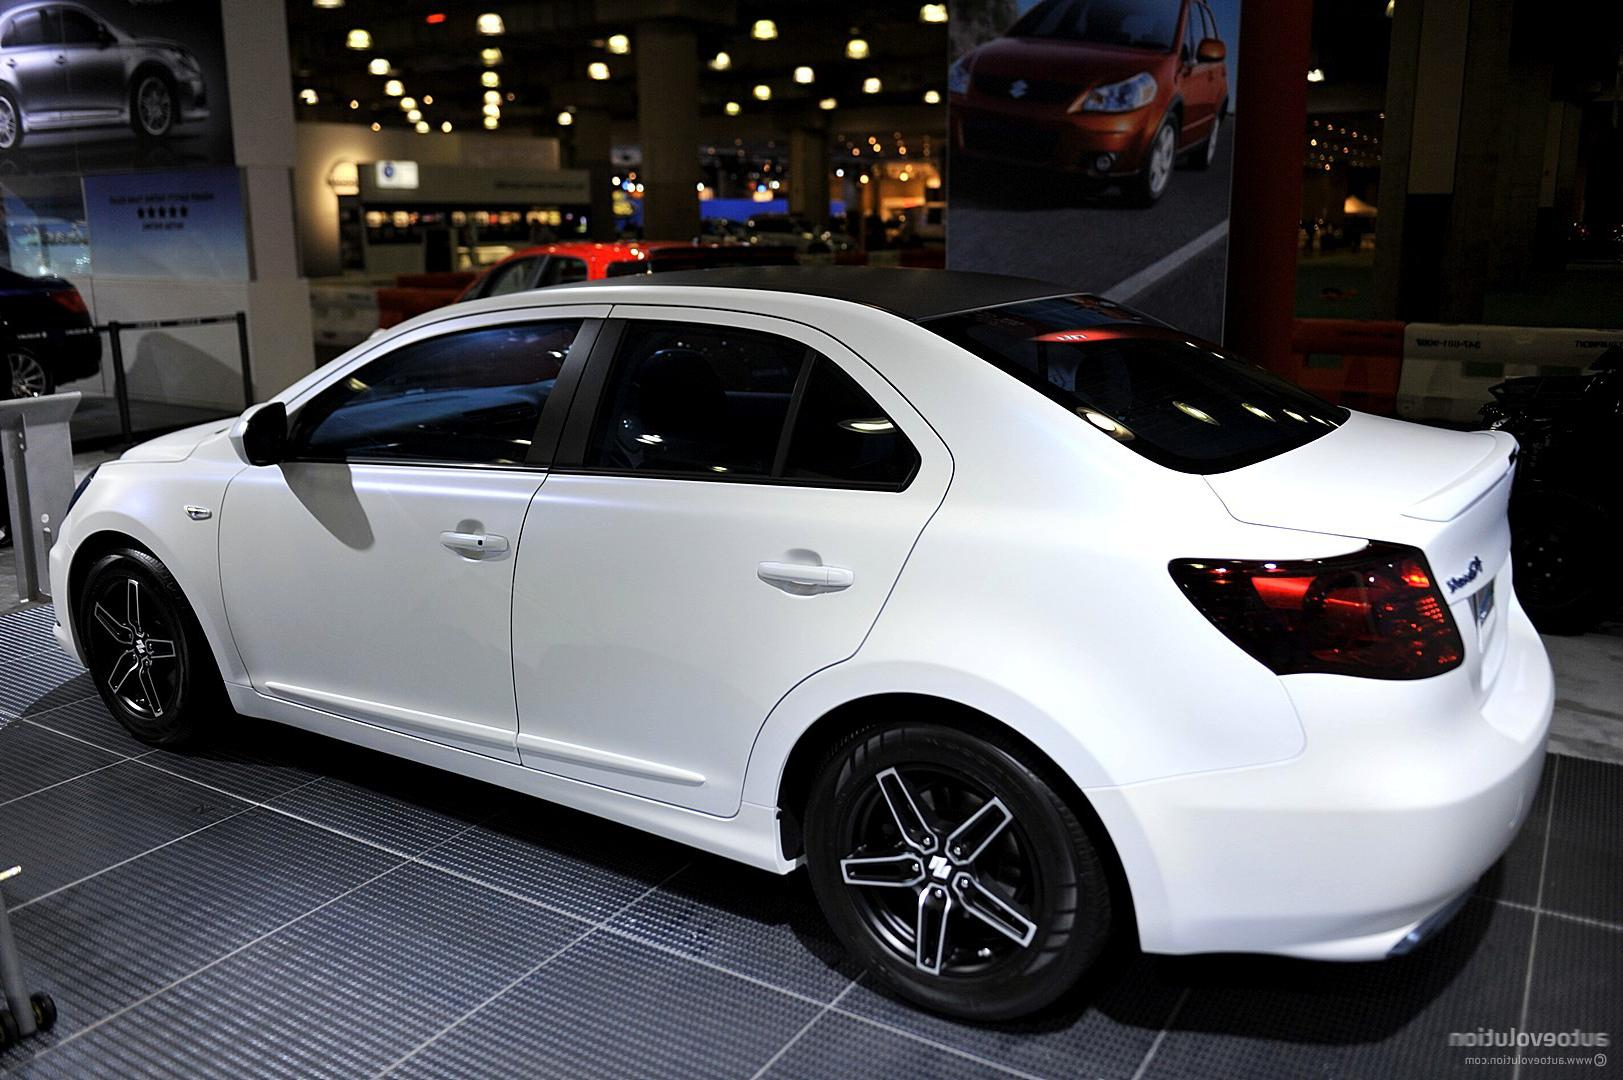Car: (24, 251, 1586, 1064)
